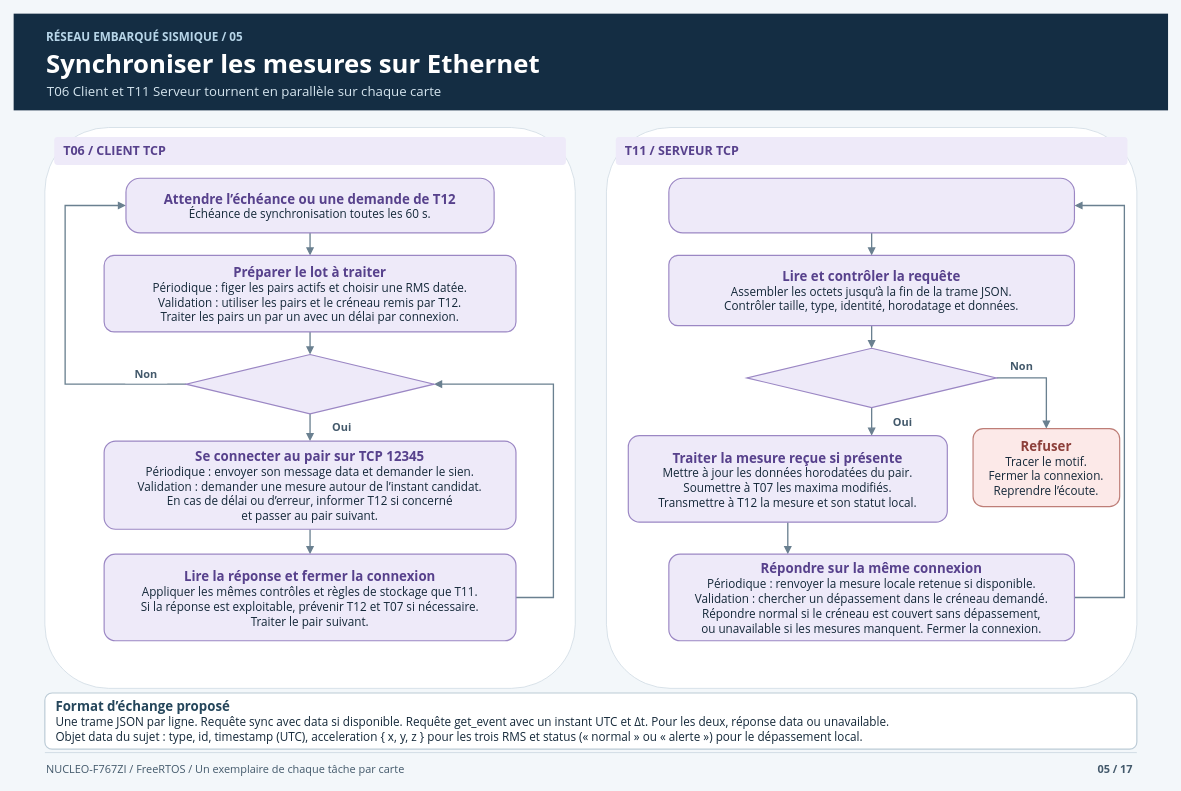
The diagram is 1181 pixels wide and 791 high, and some of its shapes have lost their labels. The box of each missing label's shape, as (x1, y1, x2, y2) in pixels:
Requête valide ?: (746, 347, 997, 408)
Reste-t-il un pair ?: (185, 354, 434, 414)
Écouter sur TCP 12345 Accepter une connexion ou revenir de l’attente sur délai.: (668, 177, 1075, 233)
